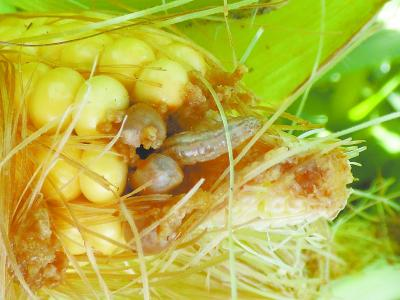pest: (125, 108, 274, 176)
